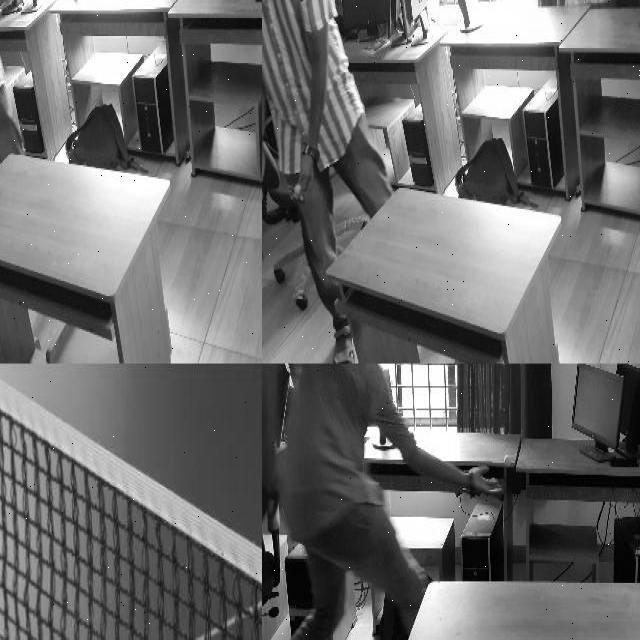ping-pong-ball: (502, 452, 514, 472), (294, 183, 300, 199)
